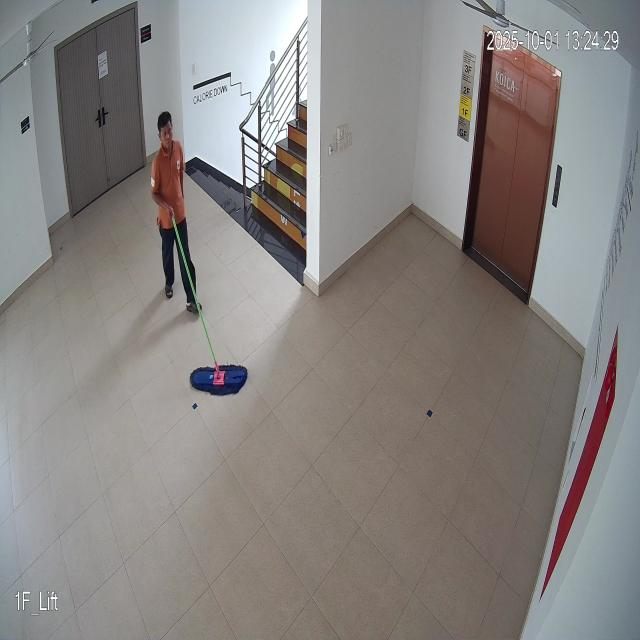face: (154, 106, 176, 151)
